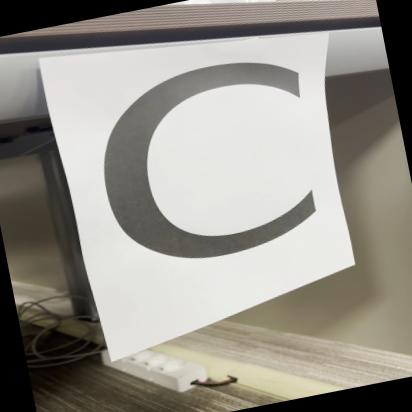seat: (31, 8, 362, 341)
